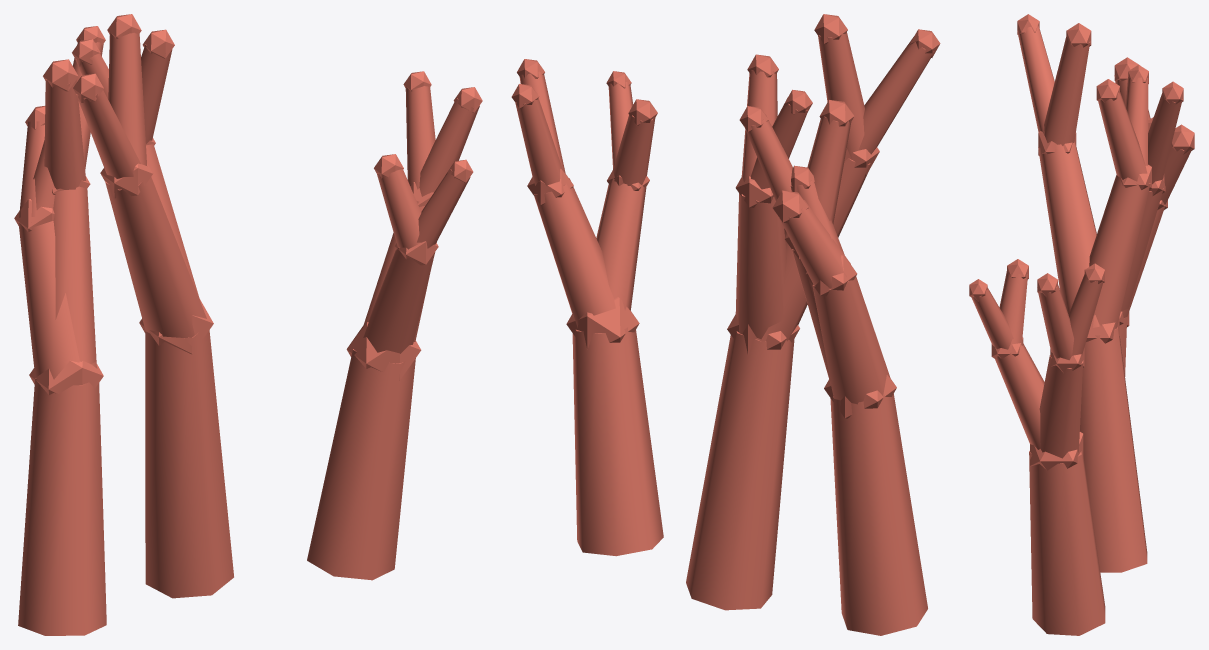
The model's file is coral-staghorn.glb.
The picture shows the model from 3 angles, left to right: view 1: azimuth 30°, elevation 25°; view 2: azimuth 150°, elevation 25°; view 3: azimuth 270°, elevation 25°; orthographic projection. The views are drawn at different scales.
Bounding box in the file's own units: 2.4 × 3.19 × 1.29.
